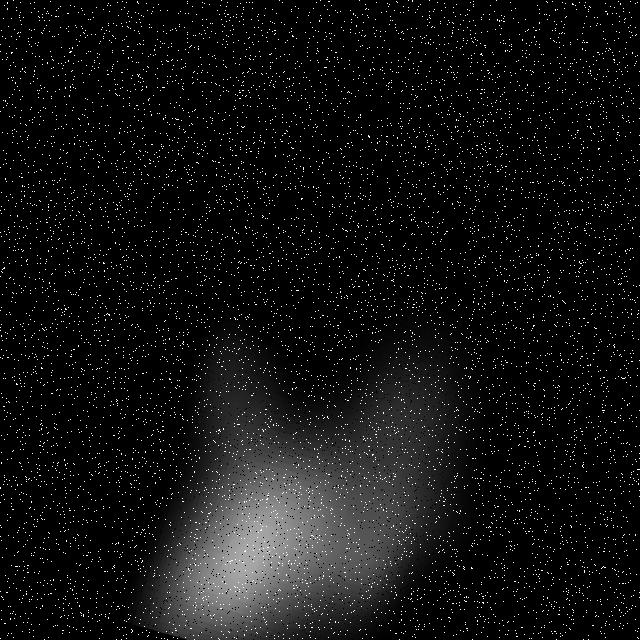person: (108, 202, 583, 640)
